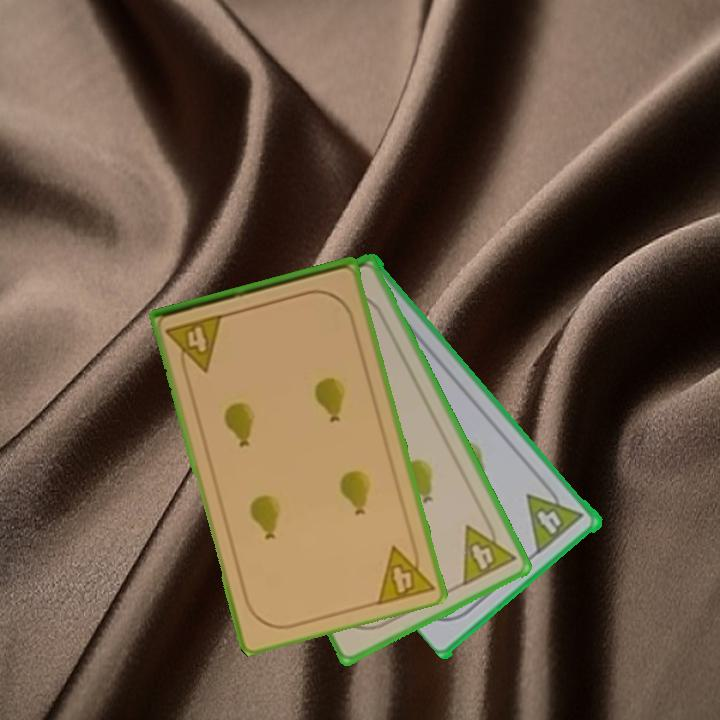4p: (523, 478, 587, 556), (458, 512, 519, 589), (373, 535, 437, 608), (163, 311, 227, 378)
